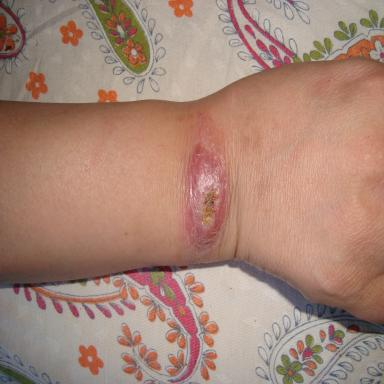Leishmanios: (186, 142, 228, 251)
